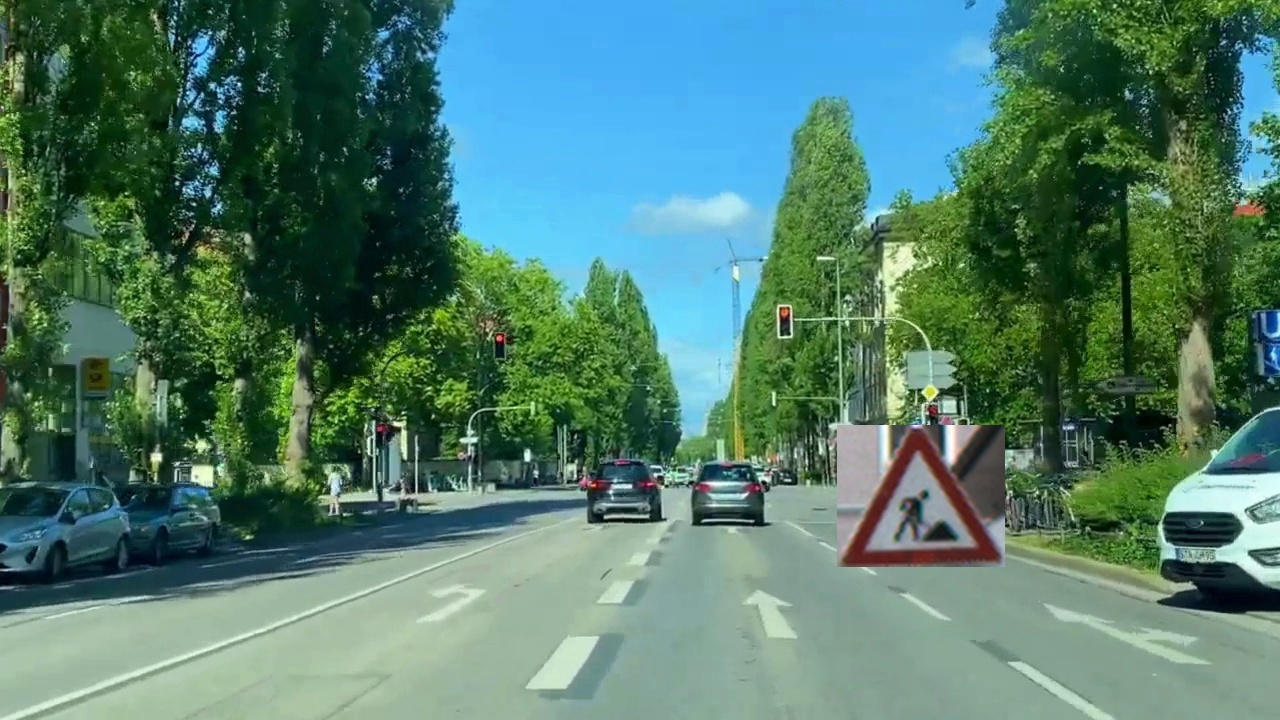Road work: (837, 425, 1005, 567)
